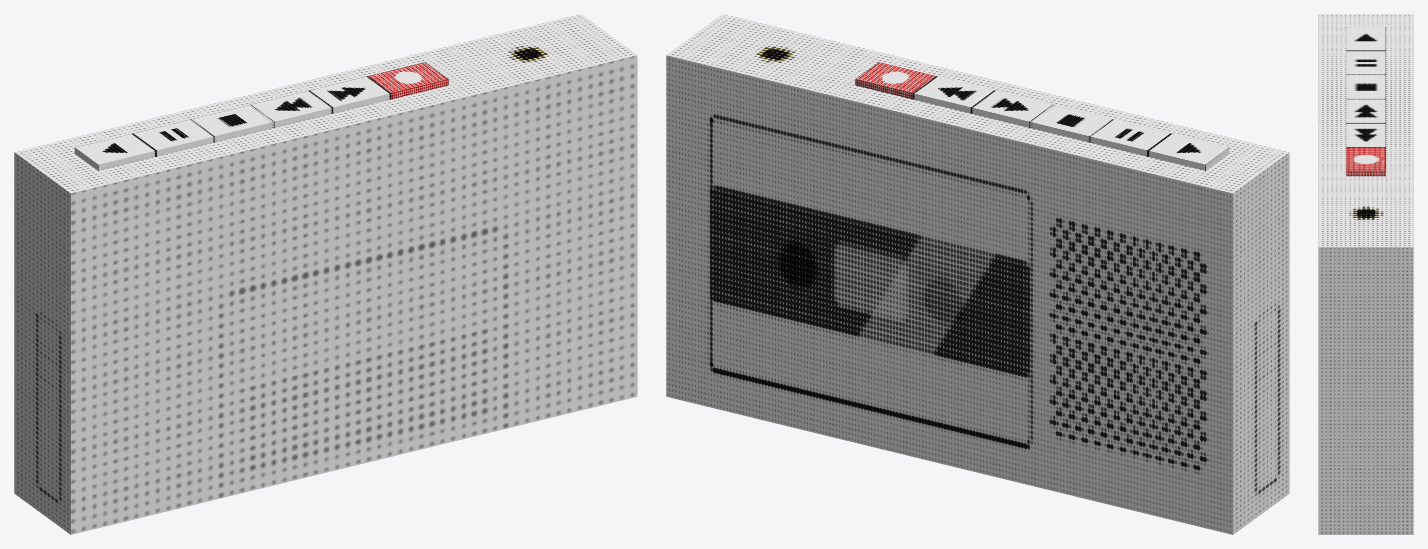
The model's file is tape.glb.
3 renders of one model, left to right at view 1: azimuth 30°, elevation 25°; view 2: azimuth 150°, elevation 25°; view 3: azimuth 270°, elevation 25°, orthographic. The views are drawn at different scales.
Visible parts, largest first — view 1: Cube; view 2: Cube; view 3: Cube.
Part boxes in pixels (left/top/right/bottom): Cube: left=14, top=14, right=637, bottom=534; Cube: left=666, top=14, right=1289, bottom=534; Cube: left=1318, top=14, right=1413, bottom=534.
Size of the model in its own units: 4.47 by 2.62 by 0.7728.
1 material, 1 textured.
